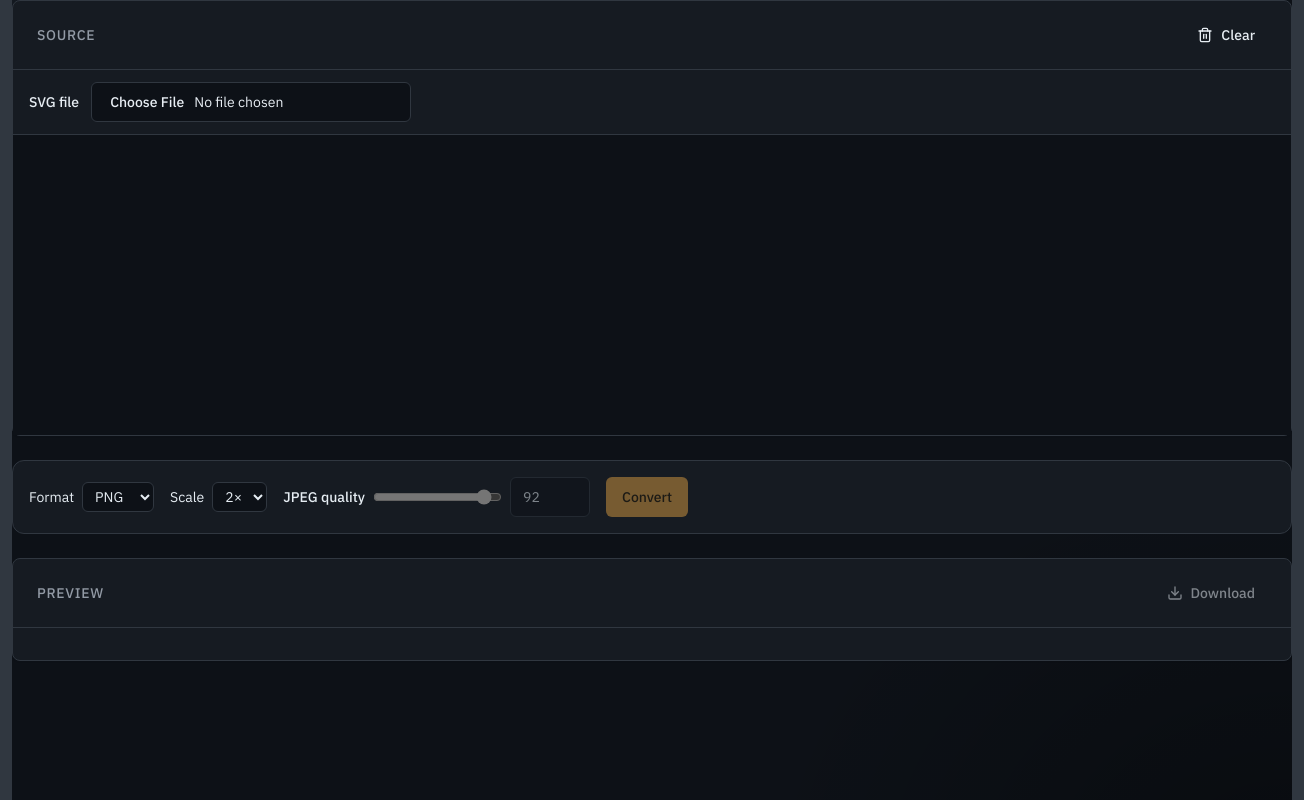
Test: SvgToImageTool › disables JPEG quality when format is PNG and enables it for JPEG
The width and height of the screenshot is (1304, 800).
Expected: the slider labelled "JPEG quality" is disabled, [373, 489, 502, 505]
Select "JPEG" in the dropdown labelled "Format" at (118, 497), box [82, 482, 154, 512]
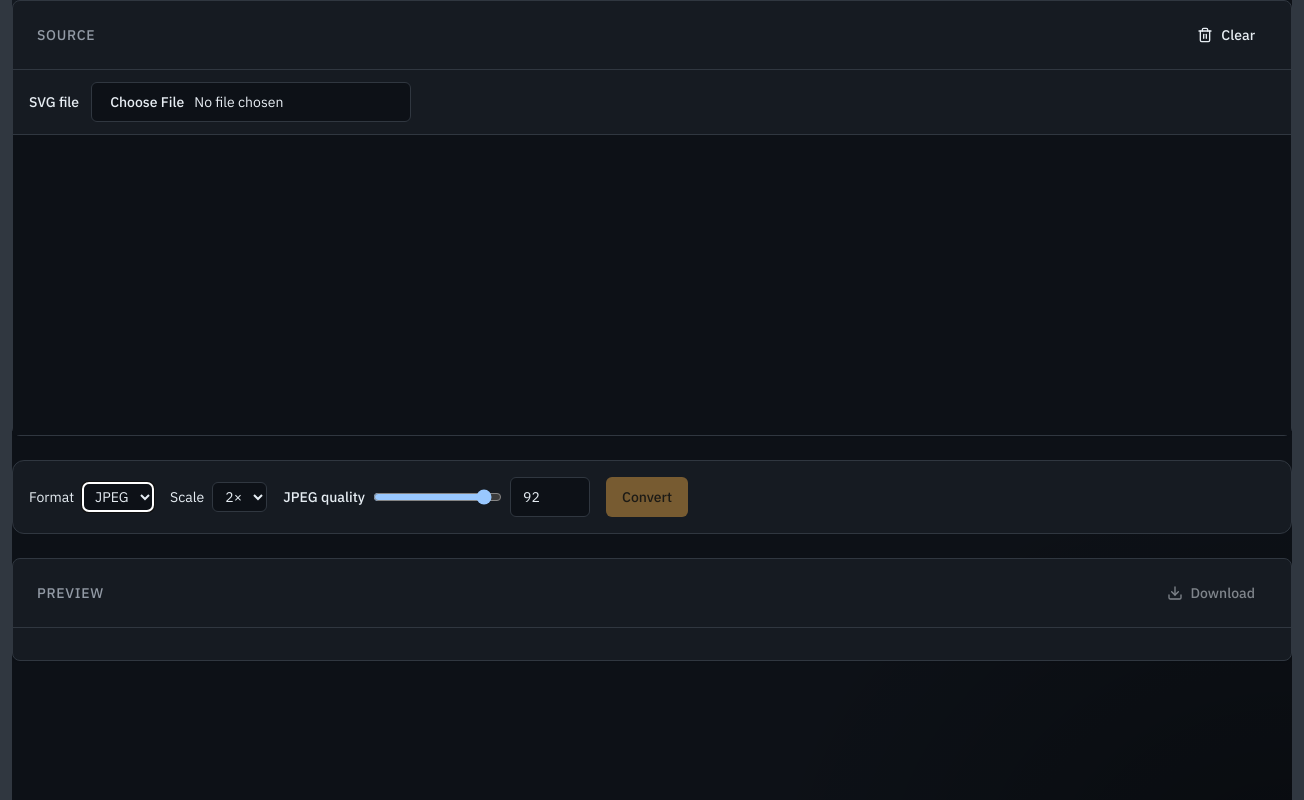
Expected: the slider labelled "JPEG quality" is enabled, [373, 489, 502, 505]
